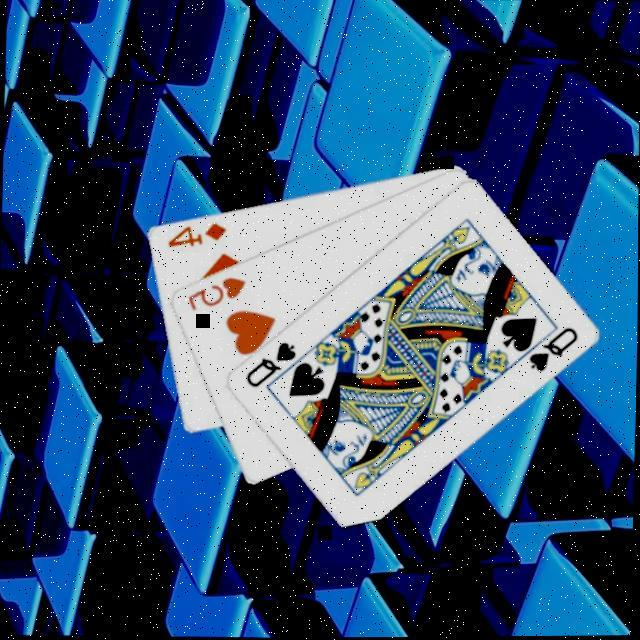4D: (161, 217, 227, 250)
5H: (181, 270, 247, 314)
QS: (240, 336, 297, 391), (524, 322, 578, 376)
